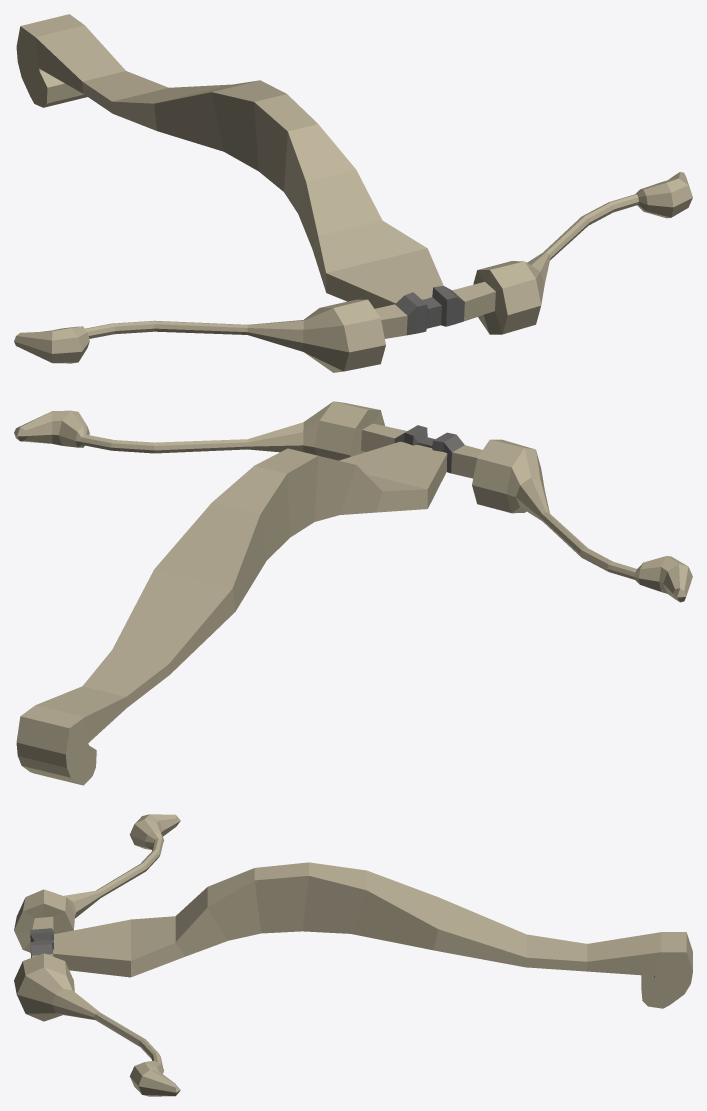
File: Ballesta.fbx
3 views of the same model, one above another, from view 1: azimuth 30°, elevation 25°; view 2: azimuth 150°, elevation 25°; view 3: azimuth 270°, elevation 25° (orthographic). The views are drawn at different scales.
Visible parts, largest first — view 1: Cube; view 2: Cube; view 3: Cube.
Part boxes in pixels (bbox=[...]): Cube: bbox=[14, 14, 692, 372]; Cube: bbox=[14, 401, 692, 785]; Cube: bbox=[14, 814, 692, 1096].
Size of the model in its own units: 198 by 43.49 by 206.
